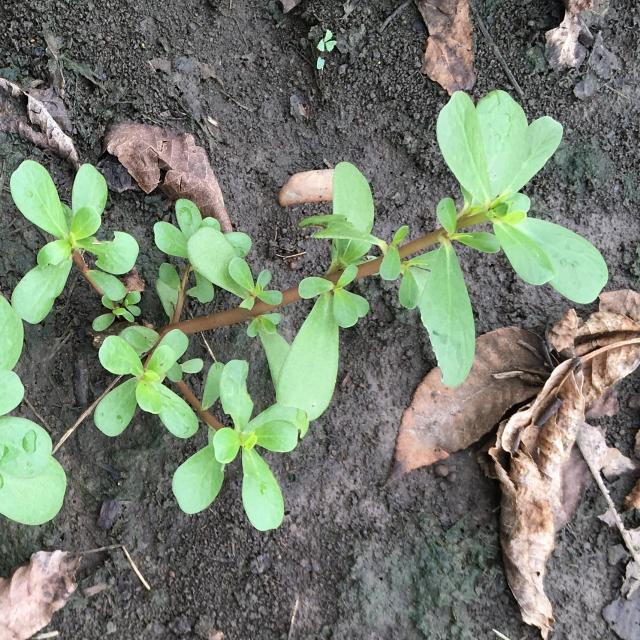Purslane: (0, 89, 609, 532)
